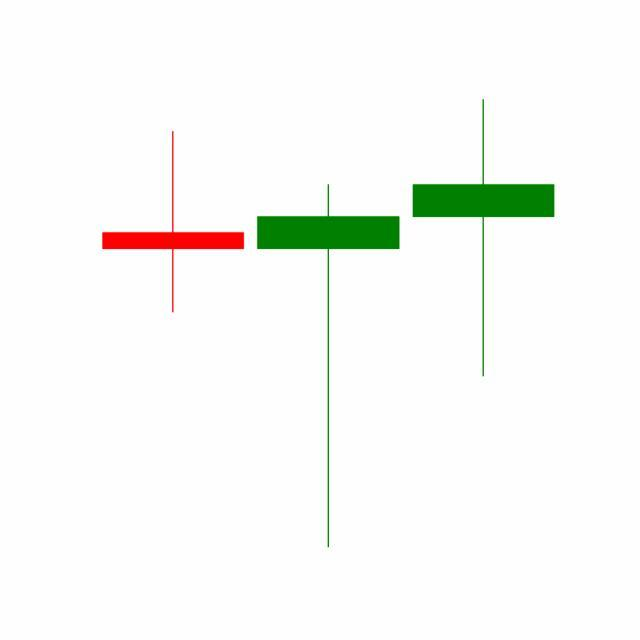Dragonfly Doji: (250, 182, 407, 553)
